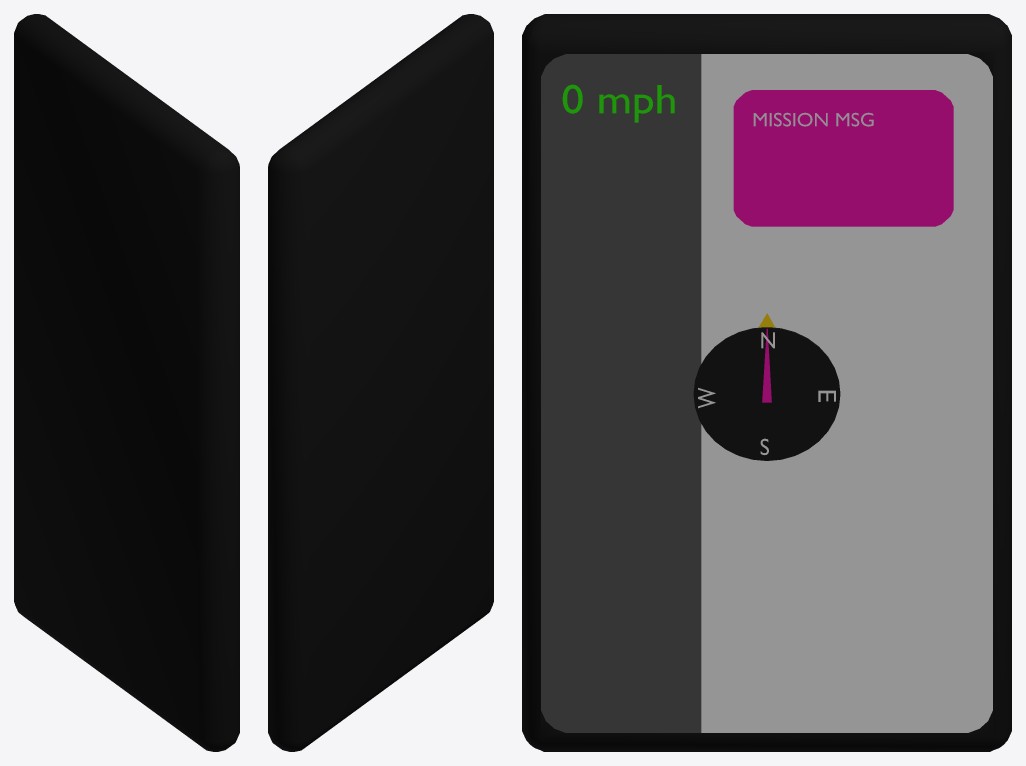
The model's file is hudPhone_roundedfixed.fbx.
The picture shows the model from 3 angles, left to right: view 1: azimuth 30°, elevation 25°; view 2: azimuth 150°, elevation 25°; view 3: azimuth 270°, elevation 25°; orthographic projection. The views are drawn at different scales.
Parts seen in each view (by area): view 1: phone; view 2: phone; view 3: phone, msgbox, compass, mph.
Part boxes in pixels (x1,y1,x2,y2): phone: (14,14,239,751); phone: (268,14,493,751); phone: (522,14,1011,751); msgbox: (733,90,953,226); compass: (693,327,840,460); mph: (562,84,674,122).
Bounding box in the file's own units: 40.52 × 551 × 333.
